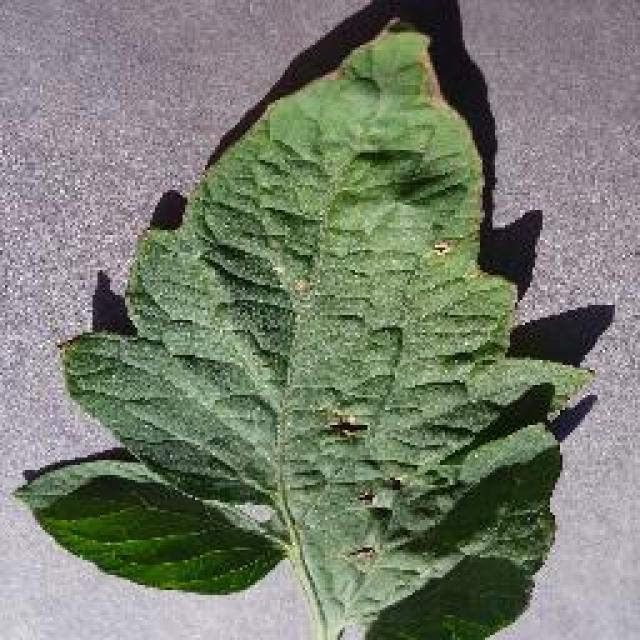Tomato___Target_Spot: (20, 28, 585, 638)
